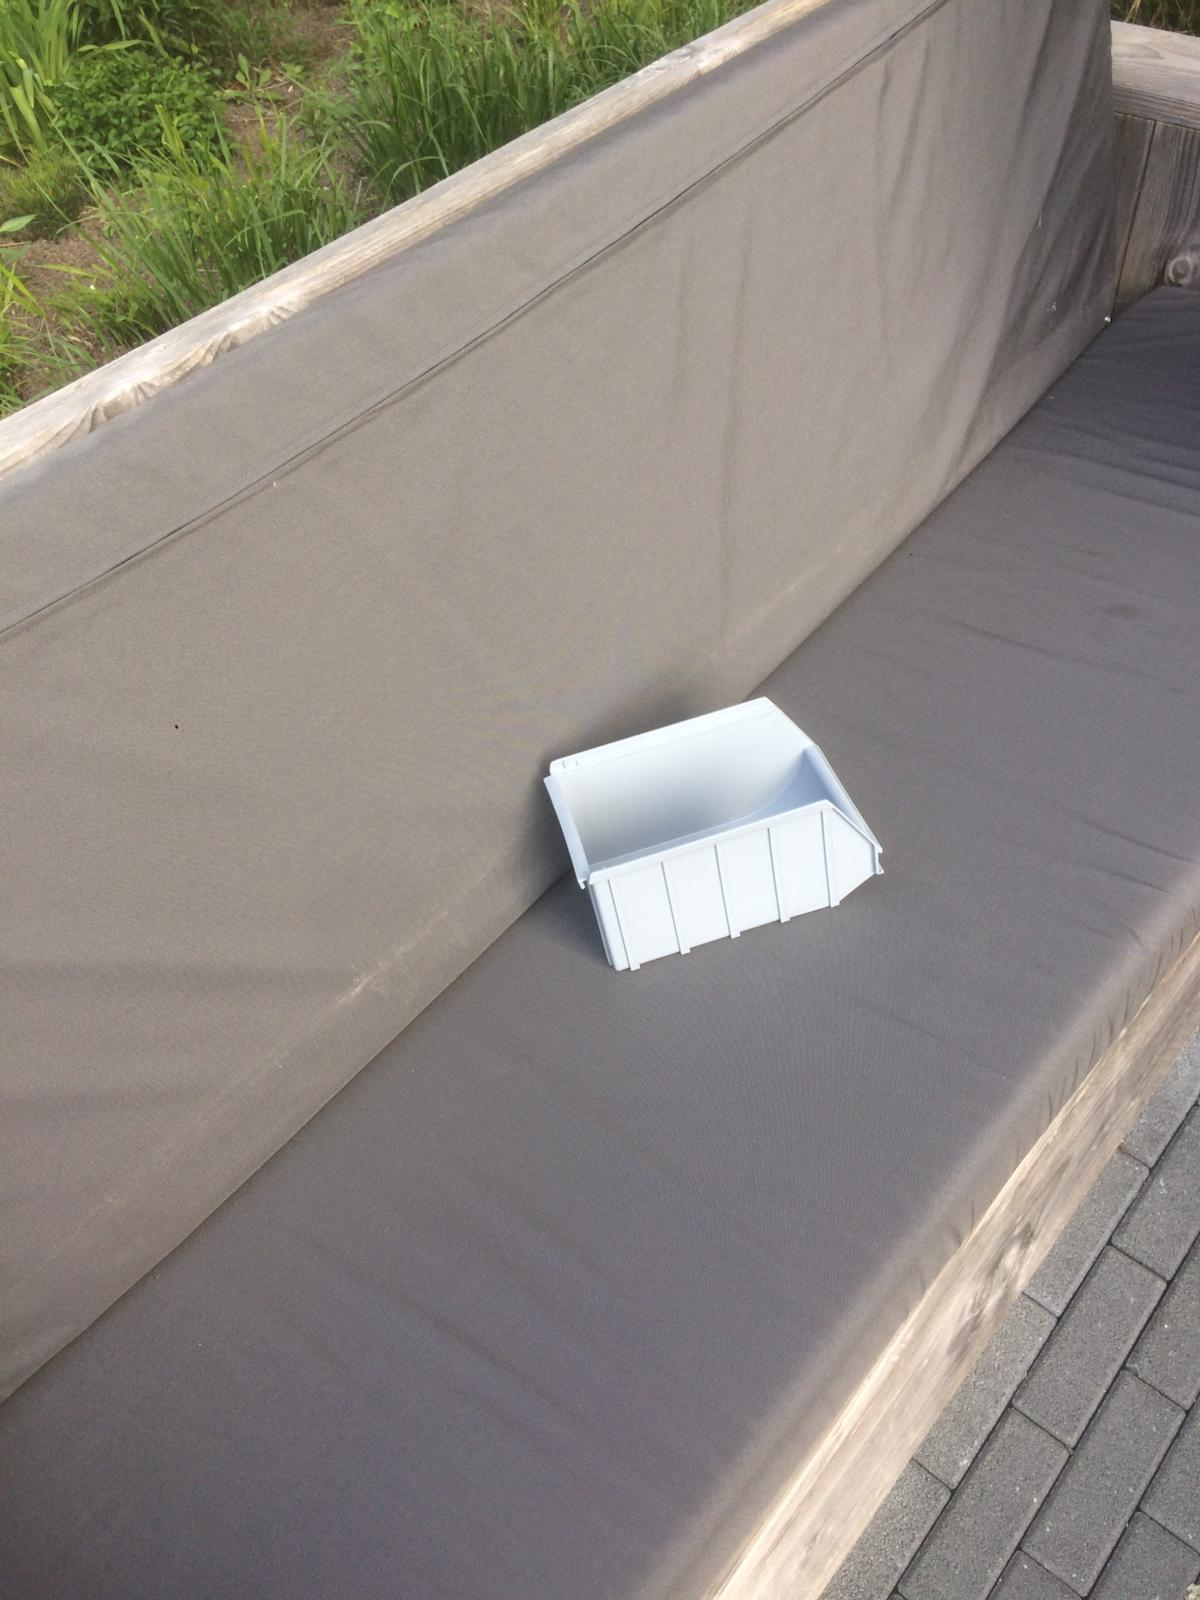tray_left: (592, 806, 884, 981)
